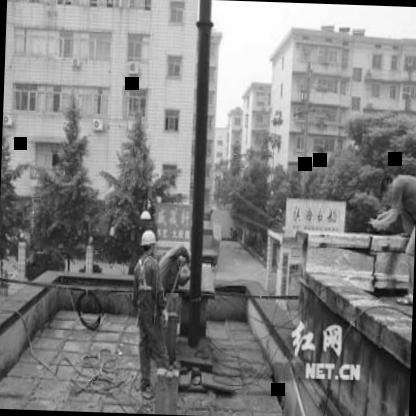head: (377, 172, 398, 200)
helmet: (140, 228, 160, 258)
